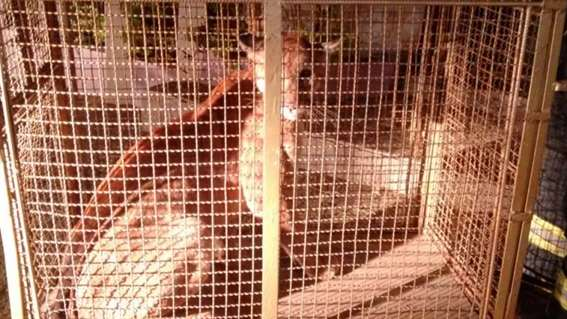OncaParda: (50, 27, 357, 299)
